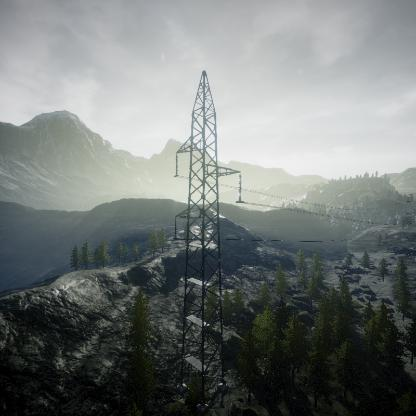tower: (171, 69, 245, 416)
